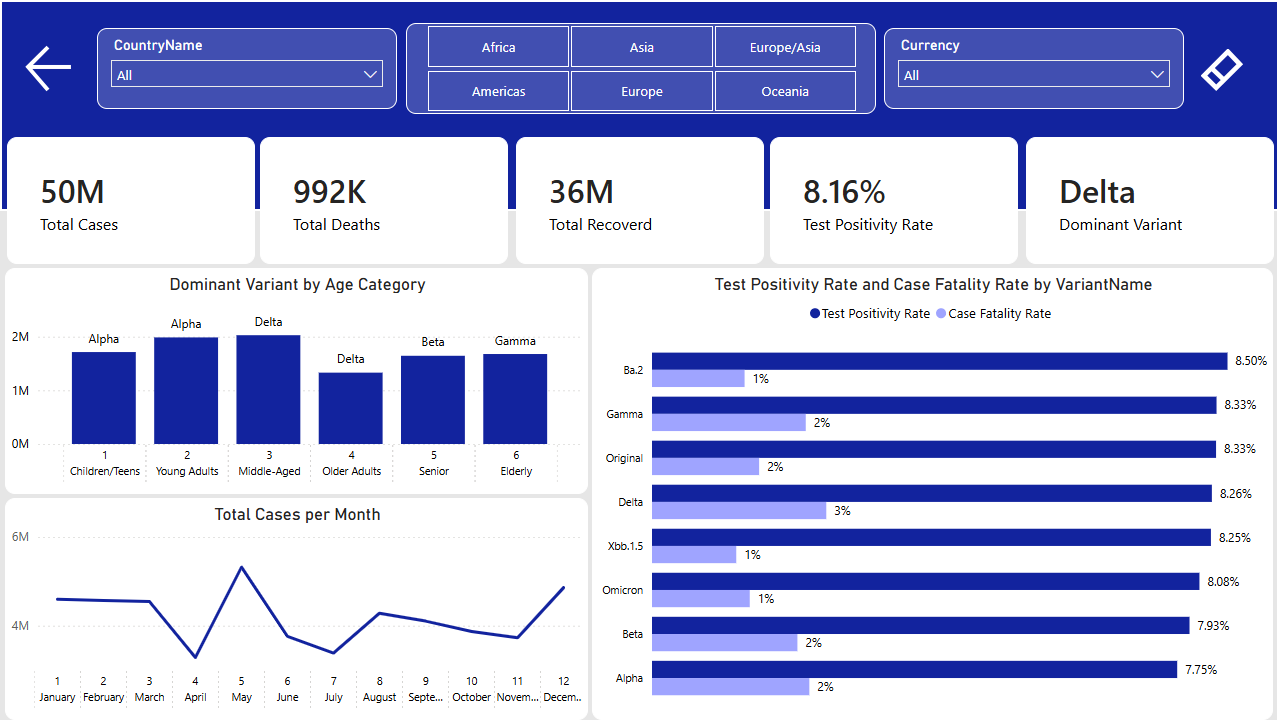

The page's visual inventory and layout, read from the dashboard file:
{"tool":"powerbi","page":{"name":"Countries","canvas":[1280,720],"ordinal":1},"visuals":[{"type":"shape","box":[0,0,1280,211],"z":0},{"type":"cardVisual","fields":{"Data":["Project Measures.Dominant Variant Name2"]},"box":[1025.5,137,248.5,127],"z":0,"group":"g1"},{"type":"cardVisual","fields":{"Data":["Project Measures.Total Cases"]},"box":[7,137,248,127],"z":1000,"group":"g2"},{"type":"cardVisual","fields":{"Data":["Project Measures.Test Positivity Rate"]},"box":[770,137,248,127],"z":1000,"group":"g1"},{"type":"group","id":"g1","title":"Group 1","box":[260,137,1014,127],"z":2000,"group":"g2"},{"type":"cardVisual","fields":{"Data":["Project Measures.Total Recoverd"]},"box":[516,137,248,127],"z":2000,"group":"g1"},{"type":"group","id":"g2","title":"Group 2","box":[7,137,1267,127],"z":2001},{"type":"lineChart","title":"Total Cases per Month","fields":{"Category":["Dim_Date.MonthName","Dim_Date.Month"],"Y":["Project Measures.Total Cases"]},"box":[5,498,583,222],"z":2002},{"type":"clusteredColumnChart","title":"Dominant Variant by Age Category","fields":{"Category":["Dim_AgeGroup.AgeCategory","Dim_AgeGroup.AgeGroupID"],"Y":["Project Measures.Dominant Variant"]},"box":[5,268,583,226],"z":2003},{"type":"clusteredBarChart","fields":{"Y":["Project Measures.Test Positivity Rate","Project Measures.CFR%"],"Category":["Dim_Variant.VariantName"]},"box":[592,268,681,452],"z":2004},{"type":"slicer","fields":{"Values":["Dim_Country.CountryName"]},"box":[97,28,300,81],"z":2005},{"type":"slicer","fields":{"Values":["Dim_Country.Continent"]},"box":[406,23,470,91],"z":2006},{"type":"slicer","fields":{"Values":["Dim_Country.Currency"]},"box":[884,28,300,81],"z":2007},{"type":"actionButton","box":[1197,45,63,50],"z":2008},{"type":"actionButton","box":[21,40,63,57],"z":2009},{"type":"cardVisual","fields":{"Data":["Project Measures.Total Deaths"]},"box":[260,137,248,127],"z":3000,"group":"g1"}]}

Visuals, with their boxes in screenshot pixels (x1, y1, x2, y2), scaled from the page's 1280x720 canvas onto the 1277x720 screenshot:
shape: crop(0, 0, 1276, 211)
cardVisual - Project Measures.Dominant Variant Name2: crop(1023, 137, 1271, 264)
cardVisual - Project Measures.Total Cases: crop(7, 137, 254, 264)
cardVisual - Project Measures.Test Positivity Rate: crop(768, 137, 1016, 264)
"Group 1" group: crop(259, 137, 1271, 264)
cardVisual - Project Measures.Total Recoverd: crop(515, 137, 762, 264)
"Group 2" group: crop(7, 137, 1271, 264)
"Total Cases per Month" lineChart: crop(5, 498, 587, 719)
"Dominant Variant by Age Category" clusteredColumnChart: crop(5, 268, 587, 494)
clusteredBarChart - Project Measures.Test Positivity Rate x Project Measures.CFR%: crop(591, 268, 1270, 719)
slicer - Dim_Country.CountryName: crop(97, 28, 396, 109)
slicer - Dim_Country.Continent: crop(405, 23, 874, 114)
slicer - Dim_Country.Currency: crop(882, 28, 1181, 109)
actionButton: crop(1194, 45, 1257, 95)
actionButton: crop(21, 40, 84, 97)
cardVisual - Project Measures.Total Deaths: crop(259, 137, 507, 264)
